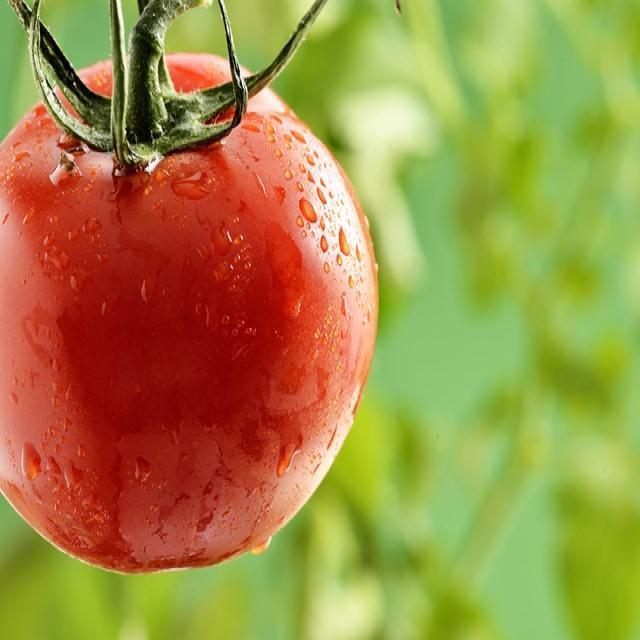kirmizi: (8, 54, 368, 574)
